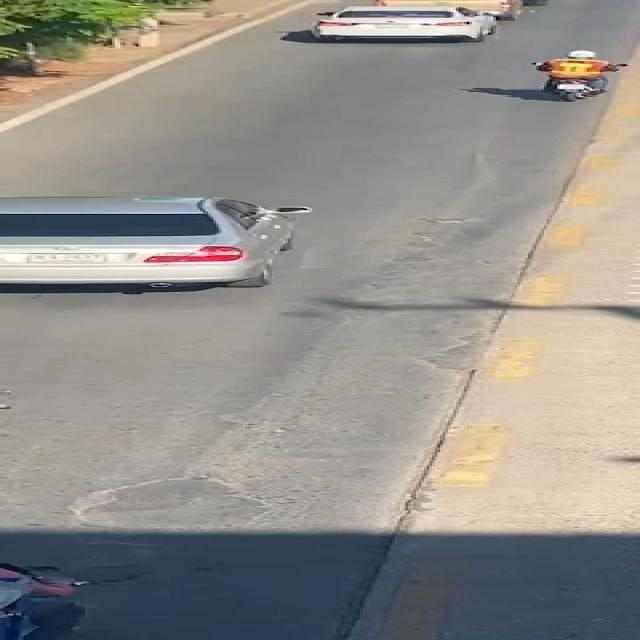car: (0, 187, 339, 300), (297, 6, 533, 44)
